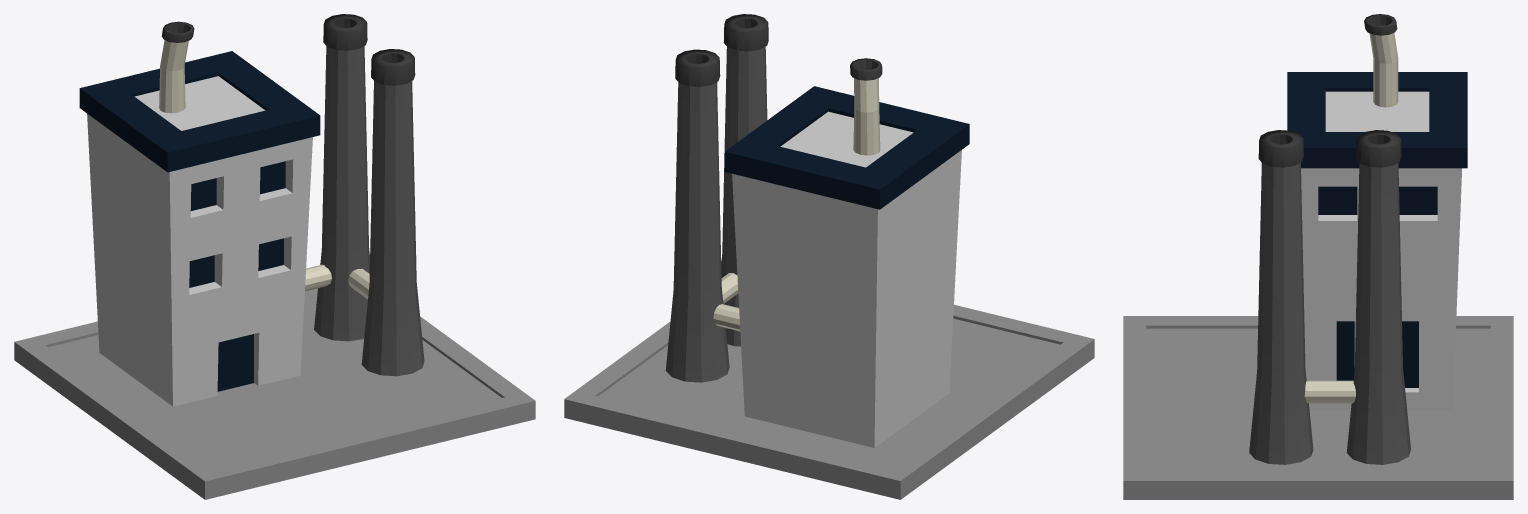
File: SubOffice_CoalFactory_Model.fbx
3 views of the same model, side by side, from view 1: azimuth 30°, elevation 25°; view 2: azimuth 150°, elevation 25°; view 3: azimuth 270°, elevation 25° (orthographic). The views are drawn at different scales.
Parts seen in each view (by area): view 1: SubOffice_Model:SubOffice_WindTurbine_Model:pCube29, SubOffice_Model:pCube7, polySurface1, polySurface2, pCylinder1, pCylinder2; view 2: SubOffice_Model:SubOffice_WindTurbine_Model:pCube29, SubOffice_Model:pCube7, polySurface2, polySurface1, pCylinder1, pCylinder2; view 3: SubOffice_Model:pCube7, SubOffice_Model:SubOffice_WindTurbine_Model:pCube29, polySurface1, polySurface2, pCylinder1, pCylinder3.
Part boxes in pixels (x1,y1,x2,y2): SubOffice_Model:SubOffice_WindTurbine_Model:pCube29: (79,51,320,406); SubOffice_Model:pCube7: (14,288,535,499); polySurface1: (361,49,424,376); polySurface2: (314,14,369,341); pCylinder1: (159,21,194,113); pCylinder2: (305,264,331,291); SubOffice_Model:SubOffice_WindTurbine_Model:pCube29: (724,86,969,447); SubOffice_Model:pCube7: (564,304,1094,499); polySurface2: (665,49,729,382); polySurface1: (721,14,768,346); pCylinder1: (850,58,882,155); pCylinder2: (713,304,740,331); SubOffice_Model:pCube7: (1123,316,1513,499); SubOffice_Model:SubOffice_WindTurbine_Model:pCube29: (1287,72,1467,410); polySurface1: (1249,130,1313,464); polySurface2: (1346,130,1410,464); pCylinder1: (1364,14,1398,107); pCylinder3: (1304,380,1355,403).
Bounding box in the file's own units: 22.06 × 22.67 × 22.06.
